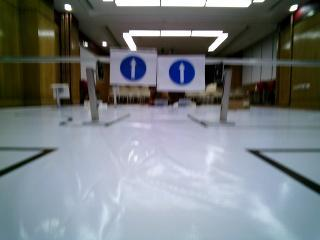straight: (111, 50, 157, 86), (159, 57, 206, 91)
